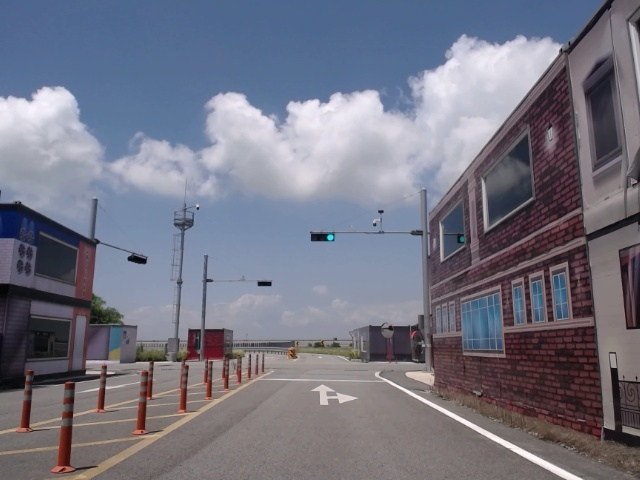green_3: (312, 233, 335, 241)
